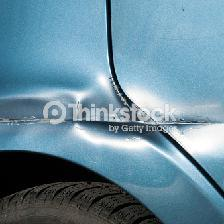dent: (75, 72, 192, 157)
